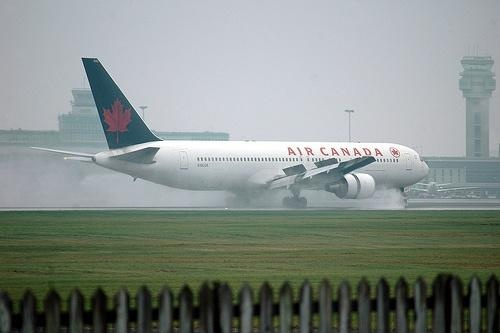aeroplane: (32, 55, 435, 213)
